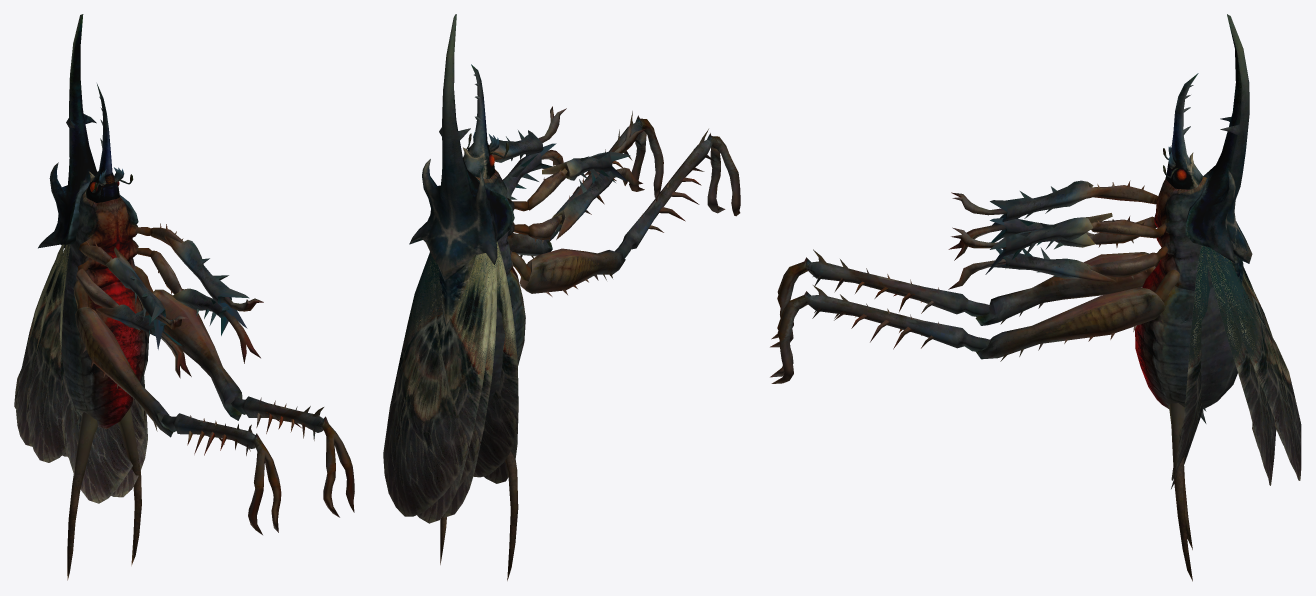
Rendered from ems005_01.obj.
The picture shows the model from 3 angles, left to right: view 1: azimuth 30°, elevation 25°; view 2: azimuth 150°, elevation 25°; view 3: azimuth 270°, elevation 25°; orthographic projection. The views are drawn at different scales.
Visible parts, largest first — view 1: ems005_01_003_LOD_1, ems005_01_002_LOD_1, ems005_01_001_LOD_1, ems005_01_000_LOD_1; view 2: ems005_01_003_LOD_1, ems005_01_001_LOD_1, ems005_01_002_LOD_1, ems005_01_000_LOD_1; view 3: ems005_01_003_LOD_1, ems005_01_002_LOD_1, ems005_01_001_LOD_1, ems005_01_000_LOD_1.
Part boxes in pixels (x1,y1,x2,y2): ems005_01_003_LOD_1: (38,14,354,534); ems005_01_002_LOD_1: (59,84,148,580); ems005_01_001_LOD_1: (14,244,147,503); ems005_01_000_LOD_1: (26,244,67,462); ems005_01_003_LOD_1: (409,14,740,325); ems005_01_001_LOD_1: (383,241,518,523); ems005_01_002_LOD_1: (440,64,525,580); ems005_01_000_LOD_1: (435,261,497,517); ems005_01_003_LOD_1: (770,14,1252,383); ems005_01_002_LOD_1: (1135,73,1237,581); ems005_01_001_LOD_1: (1171,245,1301,488); ems005_01_000_LOD_1: (1205,246,1276,485).
Size of the model in its own units: 33.19 by 154 by 135.
